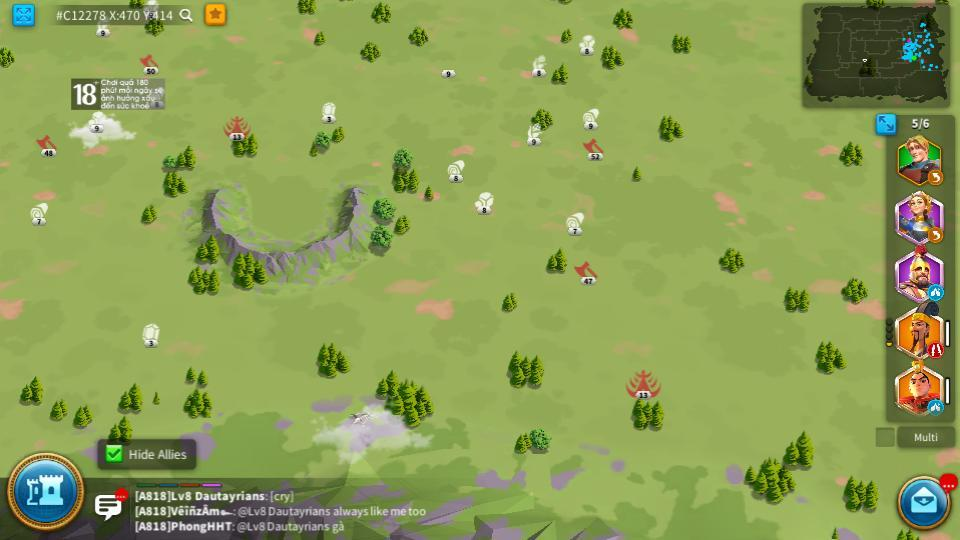gem-z-out: (141, 323, 160, 345)
march_attacking: (928, 347, 942, 357)
march_idle: (927, 401, 945, 415), (929, 284, 942, 299)
march_returning: (927, 170, 944, 185), (928, 229, 942, 242)
